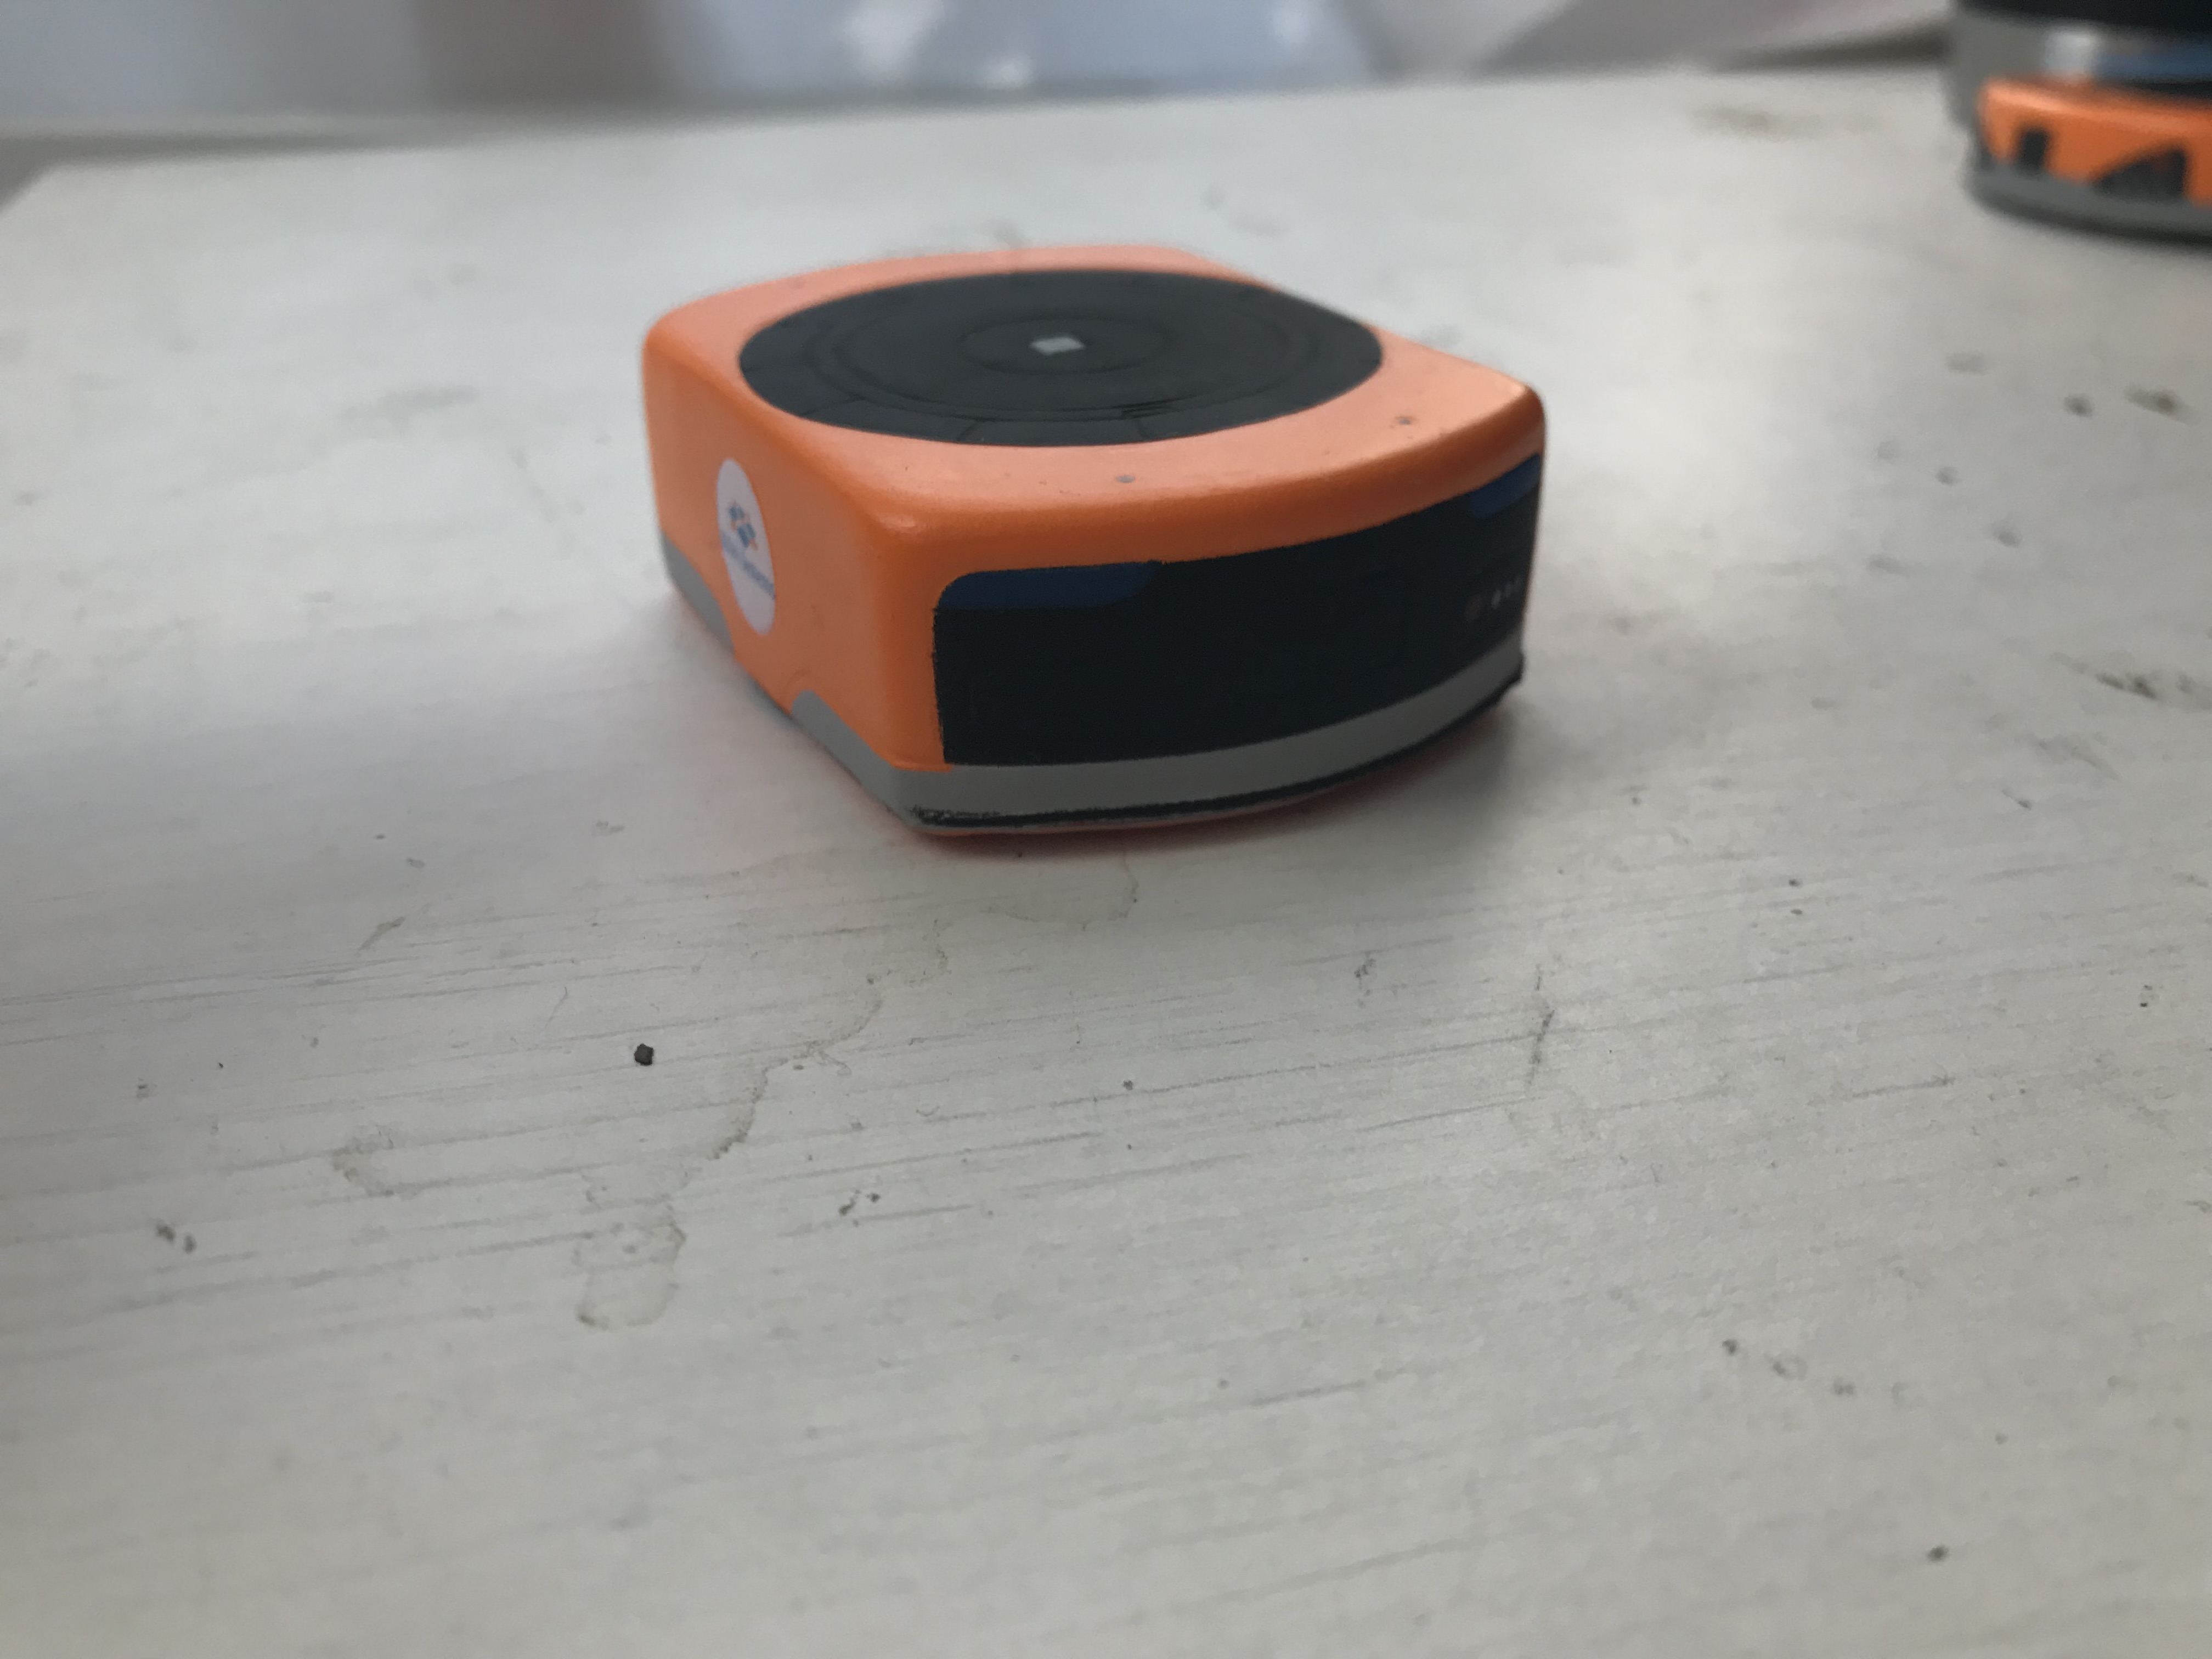Amazon Bot: (629, 223, 1578, 863)
amazon_bot: (631, 242, 1597, 838)
